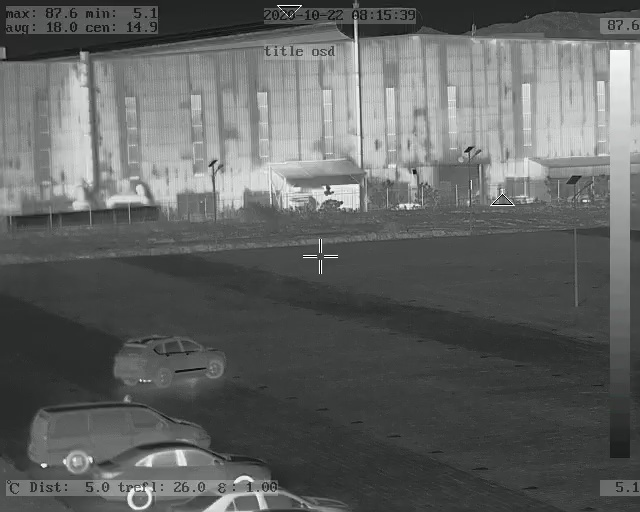vehicle: (85, 438, 277, 507), (28, 401, 209, 471), (108, 335, 232, 386)
